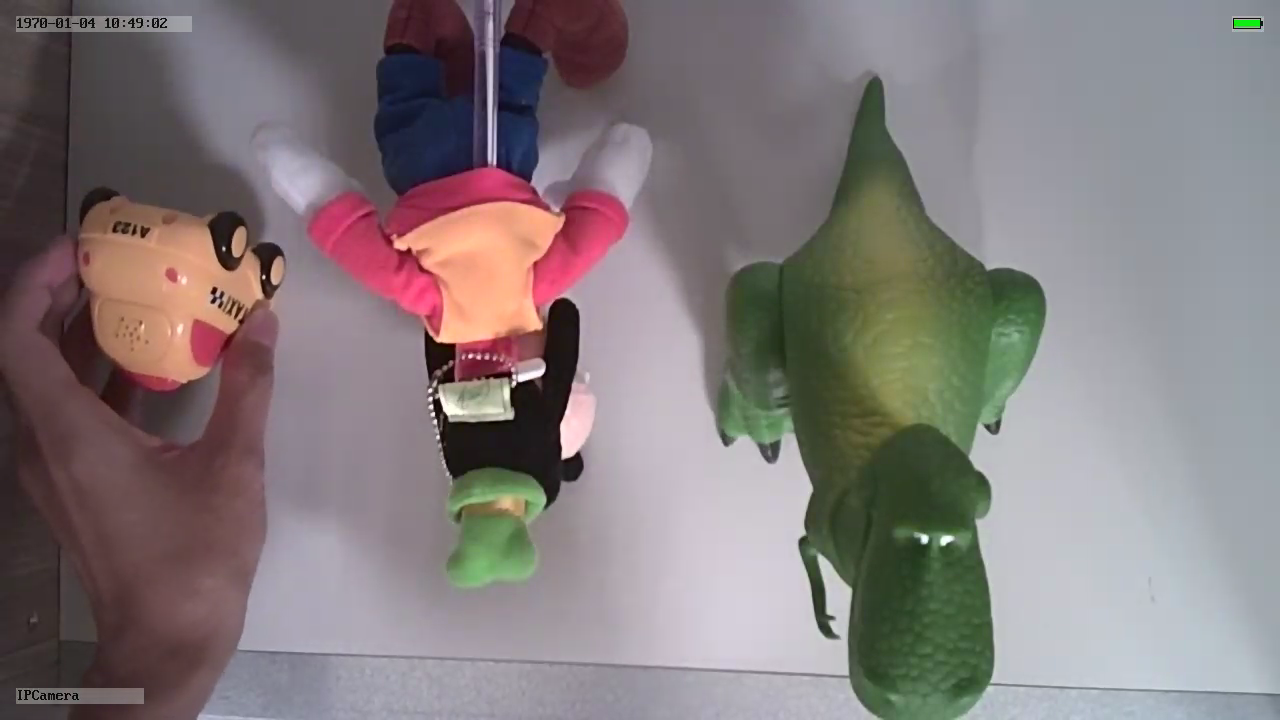goofy: (255, 123, 652, 582)
